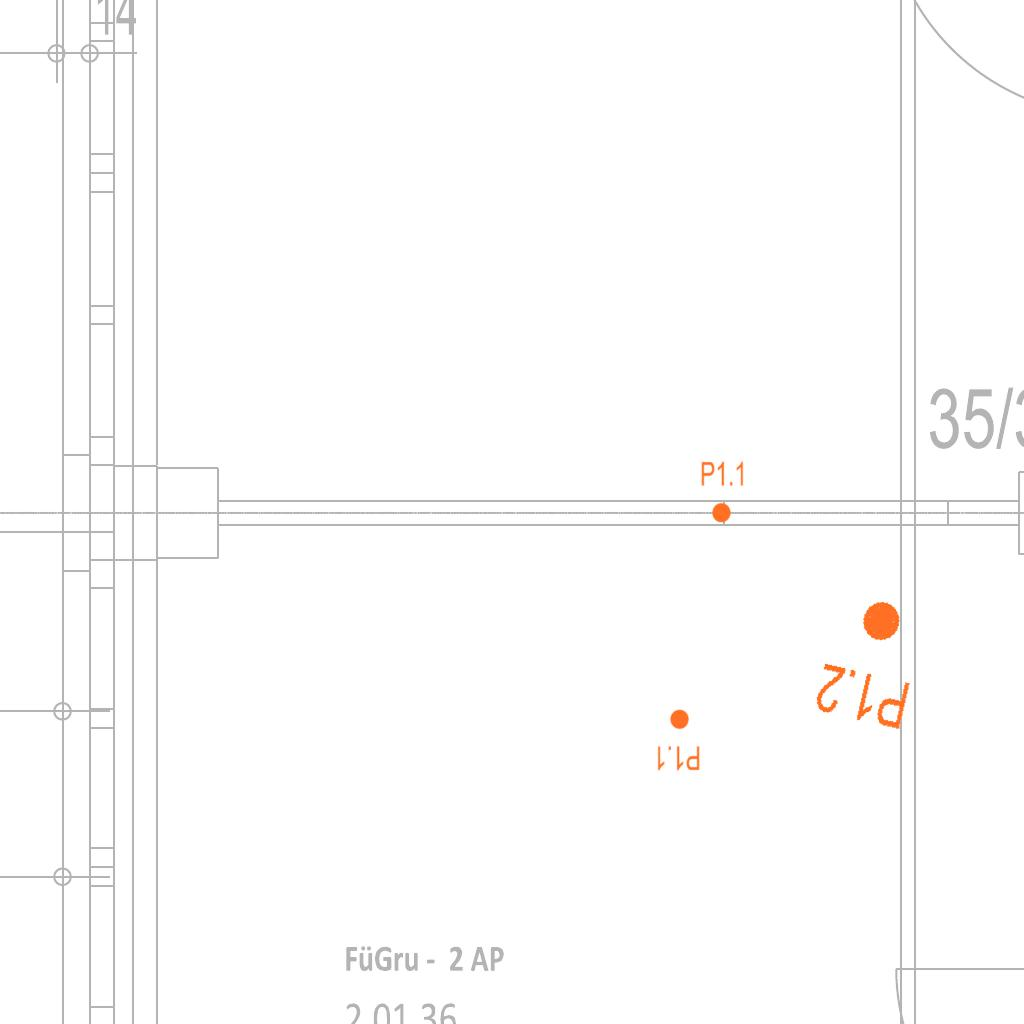Downlight_LED_Einbauleuchten_Flur: (810, 588, 931, 734), (655, 708, 701, 772), (700, 460, 746, 524)
